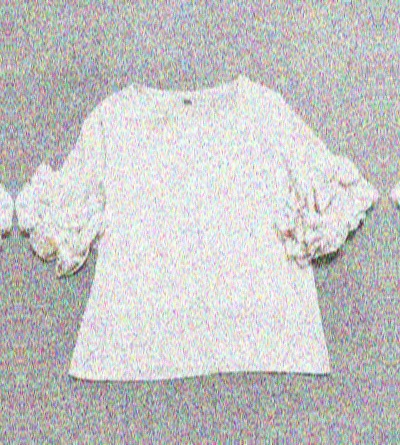Blouse: (14, 51, 384, 406), (0, 65, 17, 420), (388, 37, 400, 392)
